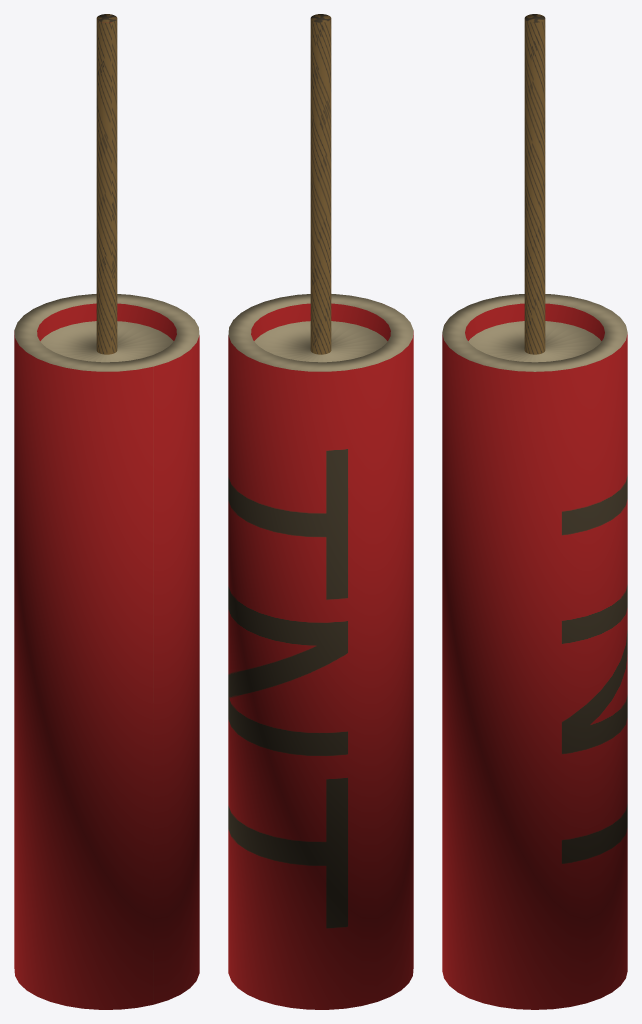
Rendered from Dynamite.fbx.
The picture shows the model from 3 angles, left to right: view 1: azimuth 30°, elevation 25°; view 2: azimuth 150°, elevation 25°; view 3: azimuth 270°, elevation 25°; orthographic projection.
Parts seen in each view (by area): view 1: Dynamite; view 2: Dynamite; view 3: Dynamite.
Boxes of the visible parts, x1,y1,x2,y2 form: Dynamite: (14,14,199,1009); Dynamite: (228,14,413,1009); Dynamite: (442,14,627,1009).
Size of the model in its own units: 0.05 by 0.2833 by 0.05.
1 material, 1 textured.
